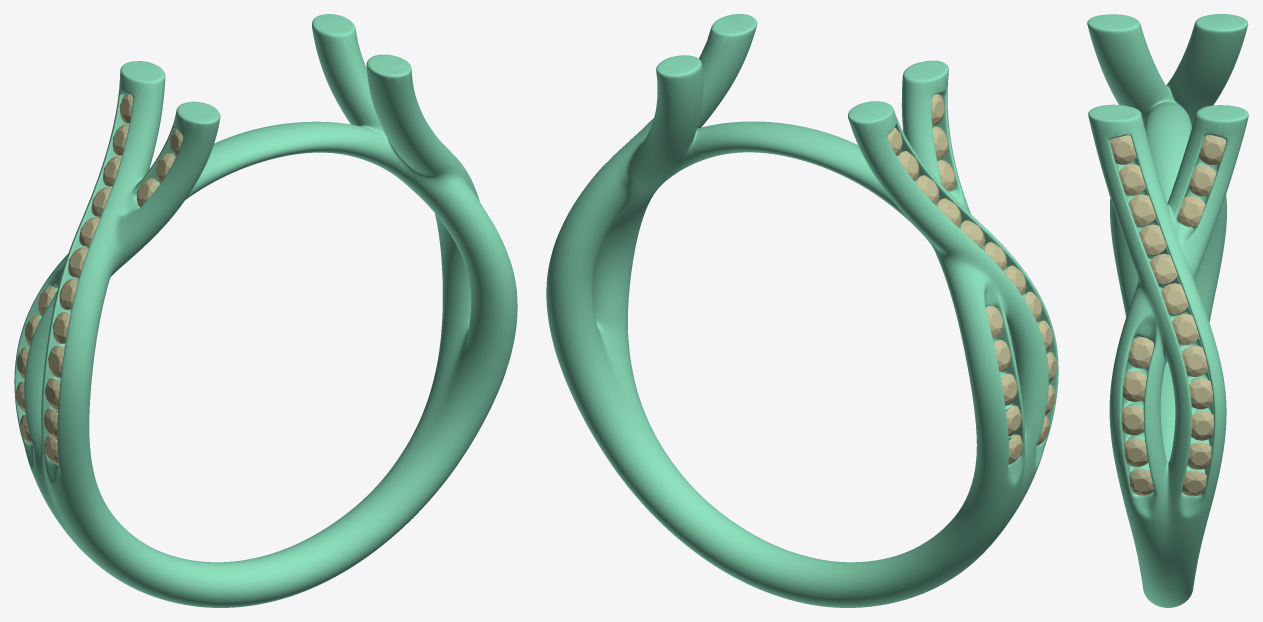
The picture shows the model from 3 angles, left to right: view 1: azimuth 30°, elevation 25°; view 2: azimuth 150°, elevation 25°; view 3: azimuth 270°, elevation 25°; orthographic projection. The views are drawn at different scales.
Parts seen in each view (by area): view 1: Metal02; view 2: Metal02; view 3: Metal02, Diamond_Gem.021, Diamond_Gem.036, Diamond_Gem.020, Diamond_Gem.031, Diamond_Gem.035, Diamond_Gem.039, Diamond_Gem.030, Diamond_Gem.038, Diamond_Gem.032, Diamond_Gem.029, Diamond_Gem.034 (+9 smaller).
Boxes of the visible parts, x1=… form: Metal02: x1=14, y1=14, x2=517, y2=607; Metal02: x1=546, y1=14, x2=1058, y2=607; Metal02: x1=1087, y1=14, x2=1248, y2=607; Diamond_Gem.021: x1=1188, y1=165, x2=1216, y2=196; Diamond_Gem.036: x1=1118, y1=164, x2=1145, y2=195; Diamond_Gem.020: x1=1177, y1=196, x2=1205, y2=226; Diamond_Gem.031: x1=1171, y1=314, x2=1199, y2=344; Diamond_Gem.035: x1=1128, y1=194, x2=1155, y2=225; Diamond_Gem.039: x1=1128, y1=337, x2=1153, y2=368; Diamond_Gem.030: x1=1181, y1=346, x2=1208, y2=376; Diamond_Gem.038: x1=1123, y1=371, x2=1146, y2=401; Diamond_Gem.032: x1=1161, y1=283, x2=1188, y2=314; Diamond_Gem.029: x1=1189, y1=378, x2=1212, y2=409; Diamond_Gem.034: x1=1138, y1=224, x2=1166, y2=254.
Size of the model in its own units: 21.1 by 22.82 by 6.46.
